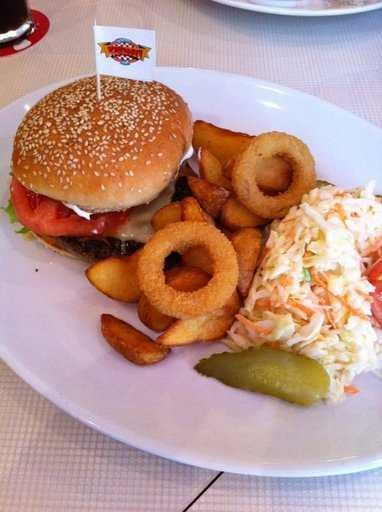hamburger: (1, 50, 202, 263)
